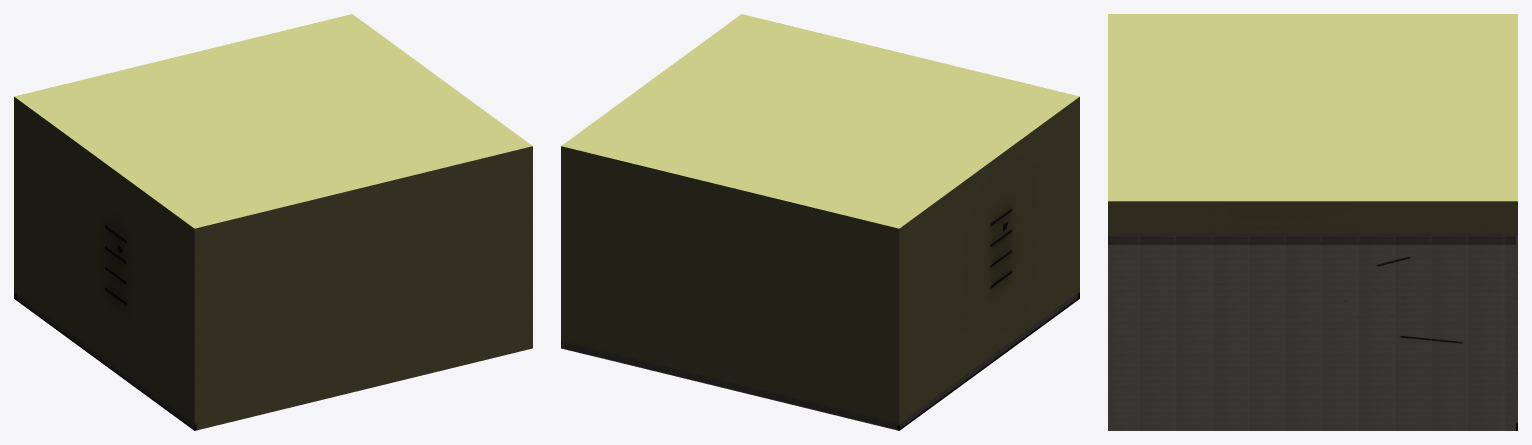
File: NewWebStanza.gltf
3 views of the same model, side by side, from view 1: azimuth 30°, elevation 25°; view 2: azimuth 150°, elevation 25°; view 3: azimuth 270°, elevation 25° (orthographic). The views are drawn at different scales.
Visible parts, largest first — view 1: Cube; view 2: Cube; view 3: Cube.
Part boxes in pixels (x1=…): Cube: x1=14, y1=14, x2=532, y2=430; Cube: x1=561, y1=14, x2=1079, y2=430; Cube: x1=1108, y1=14, x2=1517, y2=430.
Size of the model in its own units: 11.9 by 6.8 by 11.
Materials: 3 (2 with a texture image).
